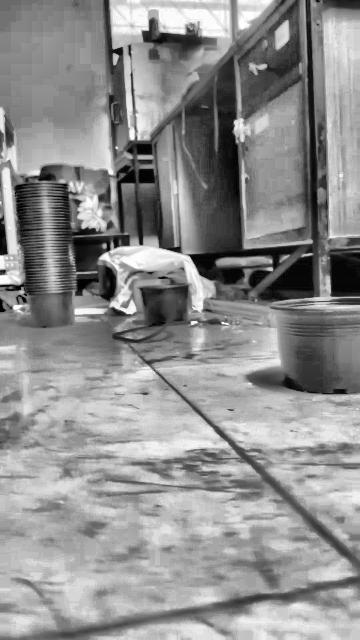pot: (263, 297, 360, 395), (140, 283, 189, 325)
